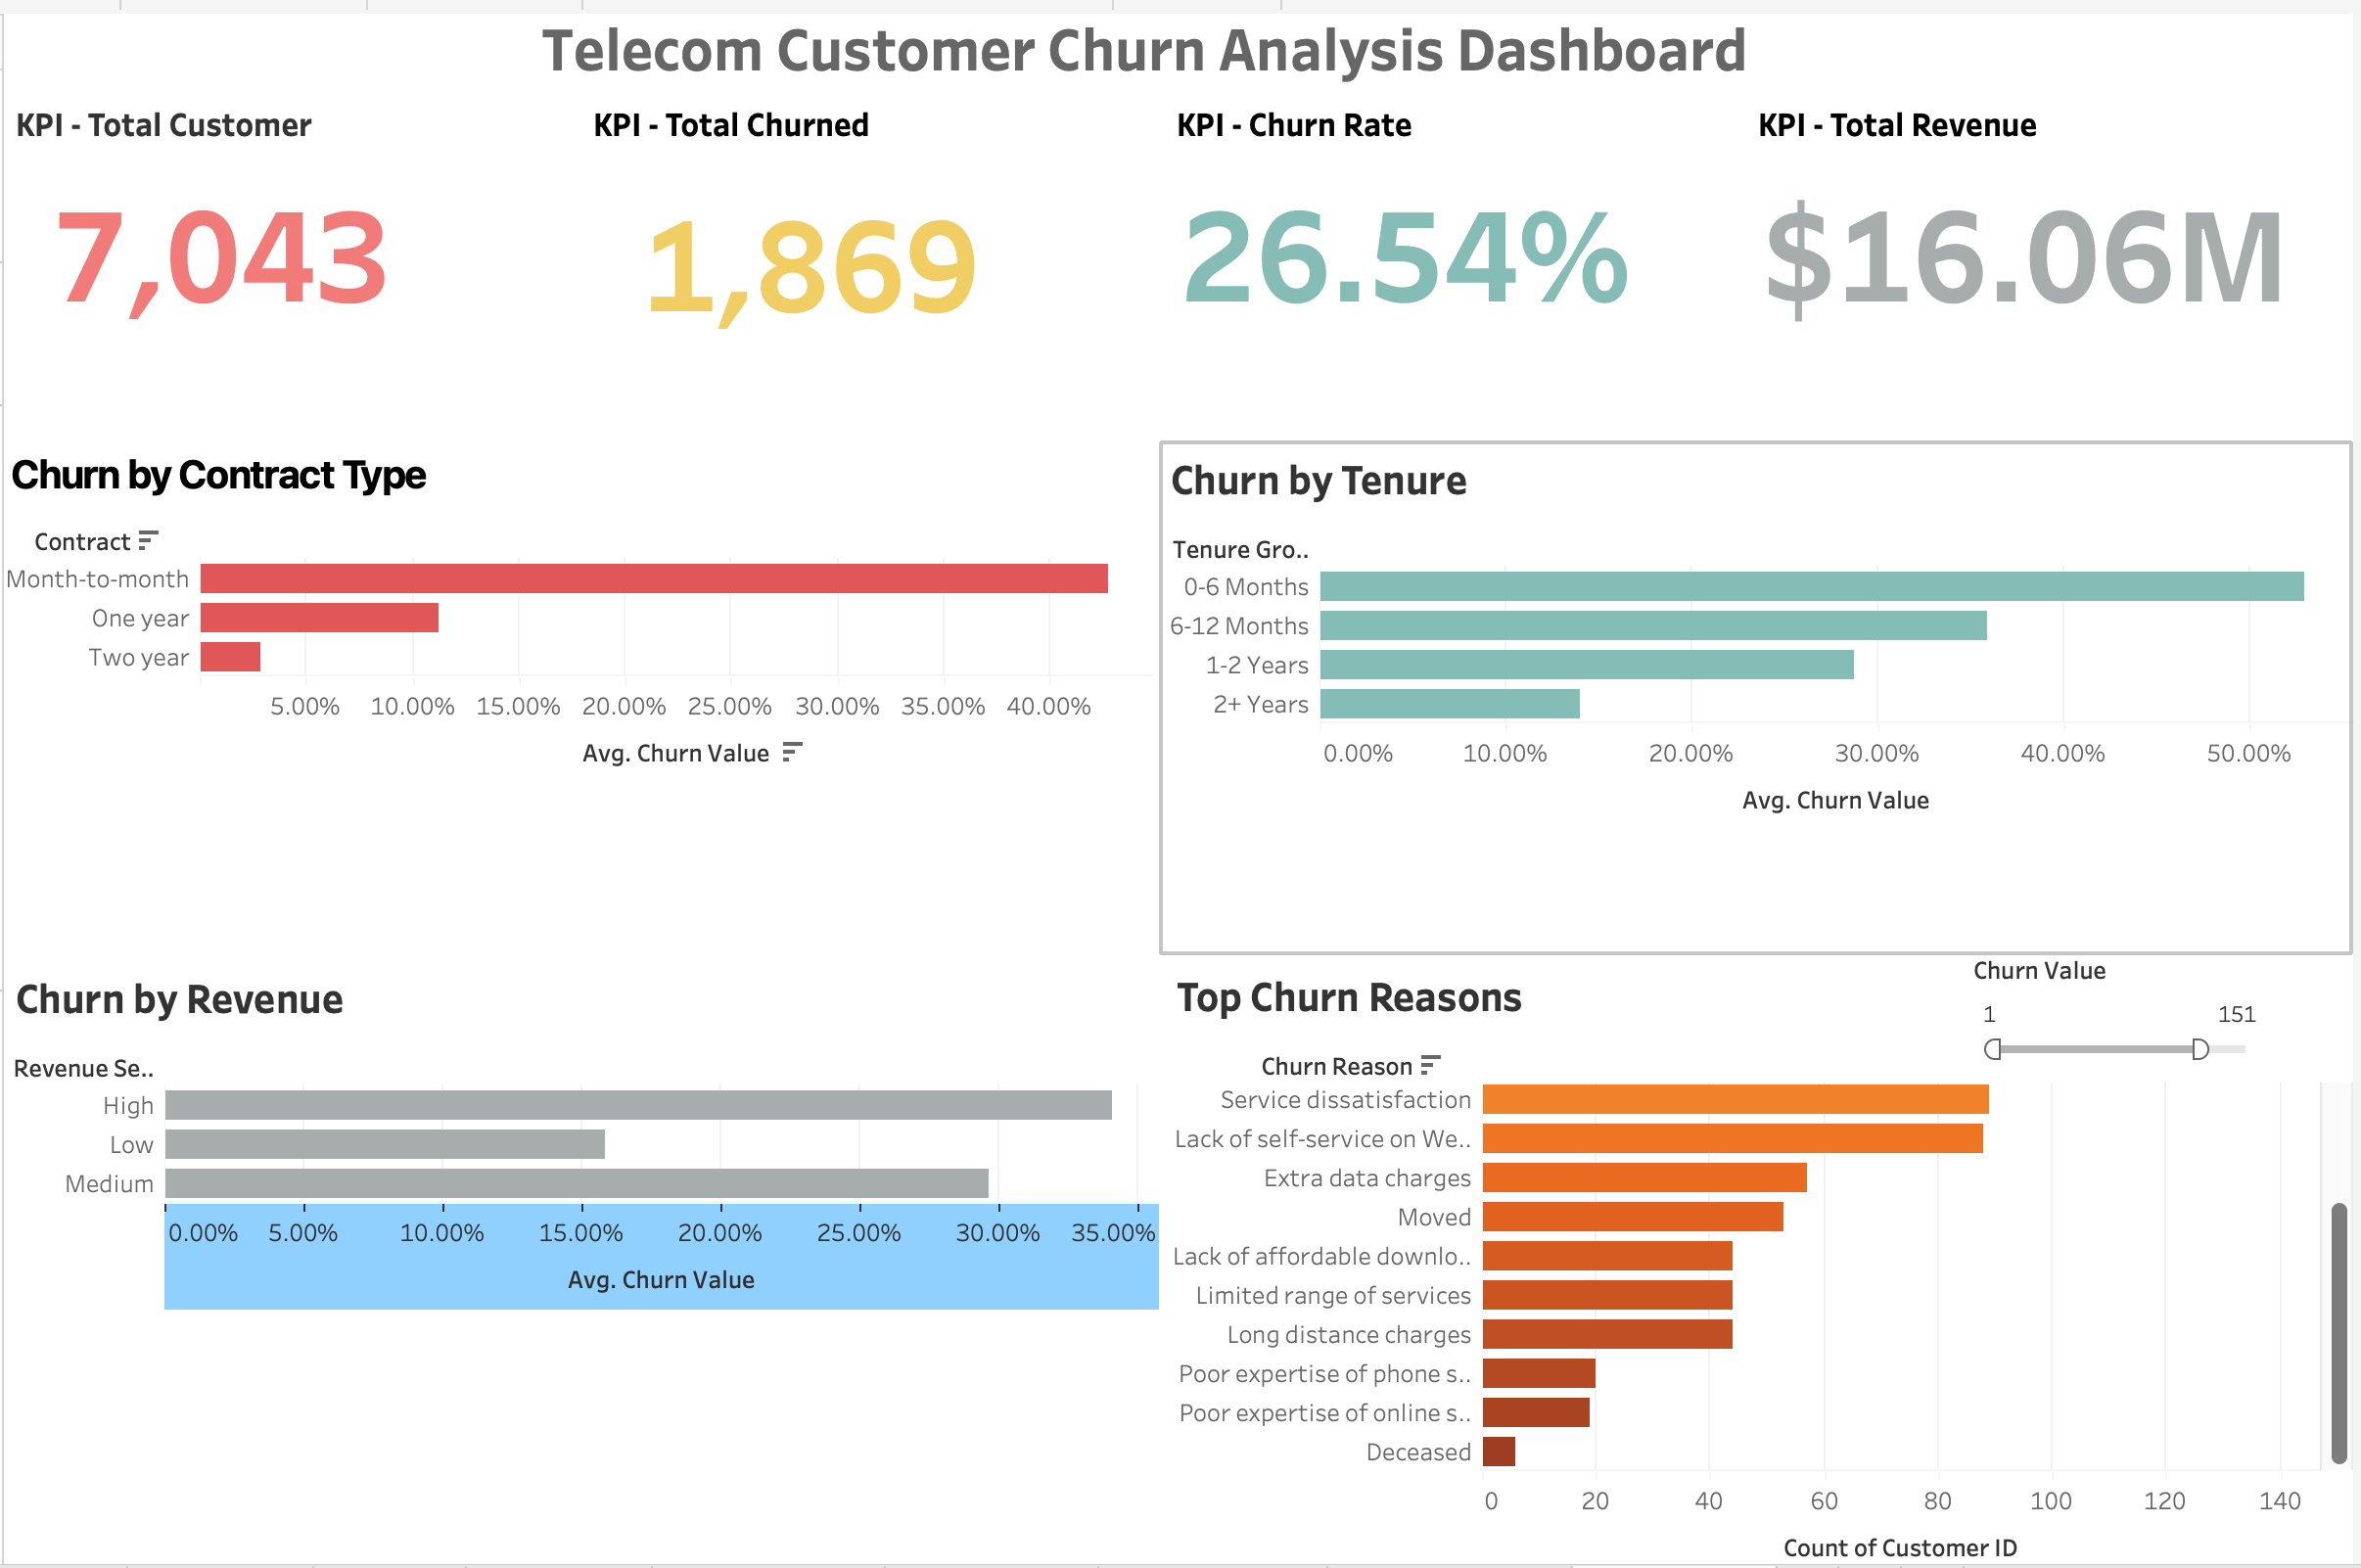

This screenshot's page, from the dashboard's own definition file:
{"tool":"tableau","page":{"name":"Dashboard 1","canvas":[1000,1000],"units":"permille","ordinal":0},"visuals":[{"type":"worksheet","title":"Total Customer","mark":"Automatic","box":[1.7,51.2,236.7,198.8]},{"type":"worksheet","title":"Total Churned","mark":"Automatic","box":[247.5,51.2,241.7,200]},{"type":"worksheet","title":"Churn Rate","mark":"Automatic","box":[495.8,51.2,239.2,202.5]},{"type":"worksheet","title":"Total Revenue","mark":"Automatic","box":[743.3,51.2,252.5,201.2]},{"type":"worksheet","title":"Churn by Contract","mark":"Bar","rows":["Contract"],"cols":["Churn Value"],"box":[0,273.8,489.2,323.8]},{"type":"worksheet","title":"Churn by Tenure","mark":"Automatic","rows":["Tenure_Group"],"cols":["Churn Value"],"box":[493.3,275,506.7,323.8]},{"type":"filter","title":"Top Churn Reasons","param":"[federated.0mdas4y1s8mu0k1golzax1q3ysme].[sum:Churn Value:qk]","box":[838.3,600,126.7,71.2]},{"type":"worksheet","title":"Top Churn Reasons","mark":"Bar","rows":["Churn Reason"],"cols":["CustomerID"],"box":[495.8,605,504.2,393.8]},{"type":"worksheet","title":"Churn by Revenue","mark":"Automatic","rows":["Revenue_Segment"],"cols":["Churn Value"],"box":[1.7,606.2,490,393.8]}]}

Visuals, with their boxes on the dashboard's canvas, which has no fixed pixel size, in thousandths of its width and height (x1, y1, x2, y2). These are canvas units, not pixel positions in the 2361x1568 screenshot, which may show the page scaled, cropped or inside an application window:
"Total Customer" worksheet: rect(2, 51, 238, 250)
"Total Churned" worksheet: rect(248, 51, 489, 251)
"Churn Rate" worksheet: rect(496, 51, 735, 254)
"Total Revenue" worksheet: rect(743, 51, 996, 252)
"Churn by Contract" worksheet (Bar marks): rect(0, 274, 489, 598)
"Churn by Tenure" worksheet: rect(493, 275, 1000, 599)
"Top Churn Reasons" filter: rect(838, 600, 965, 671)
"Top Churn Reasons" worksheet (Bar marks): rect(496, 605, 1000, 999)
"Churn by Revenue" worksheet: rect(2, 606, 492, 1000)
